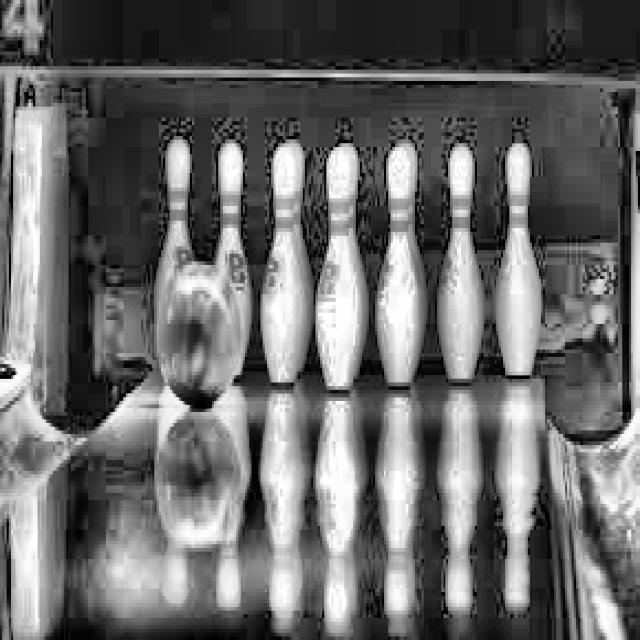bowling-ball: (157, 261, 243, 408)
bowling-pins: (260, 143, 307, 390), (439, 143, 486, 383), (316, 151, 361, 394), (377, 147, 420, 390), (499, 143, 543, 379), (214, 140, 254, 373), (332, 143, 371, 373), (157, 140, 194, 296)
